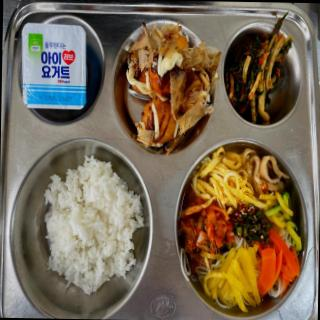Nasi: (44, 155, 146, 295)
